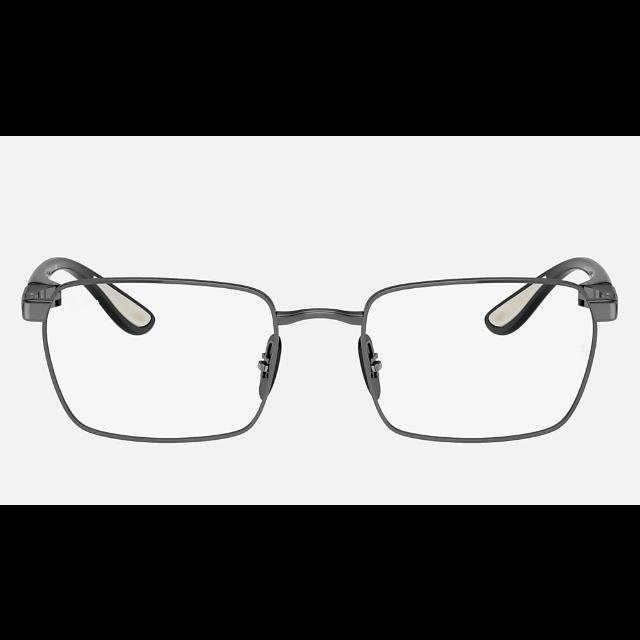glasses: (21, 254, 616, 444)
